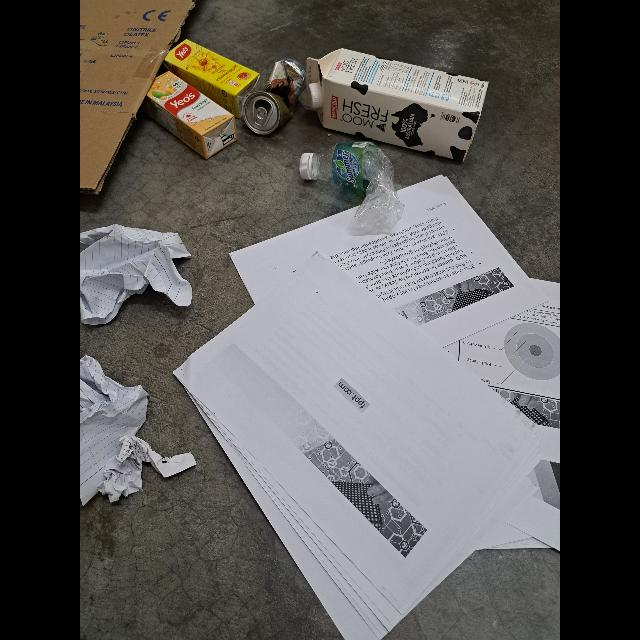aba de lata: (252, 108, 270, 126)
caixinha: (305, 48, 487, 162), (144, 72, 238, 158), (164, 39, 260, 120)
garrafa plástica: (298, 138, 400, 228)
lata: (243, 58, 305, 136)
papel: (175, 170, 560, 640), (80, 355, 196, 509), (80, 226, 192, 328)
papelão: (80, 1, 196, 196)
tampa plástica: (298, 152, 320, 184), (306, 81, 322, 111)
